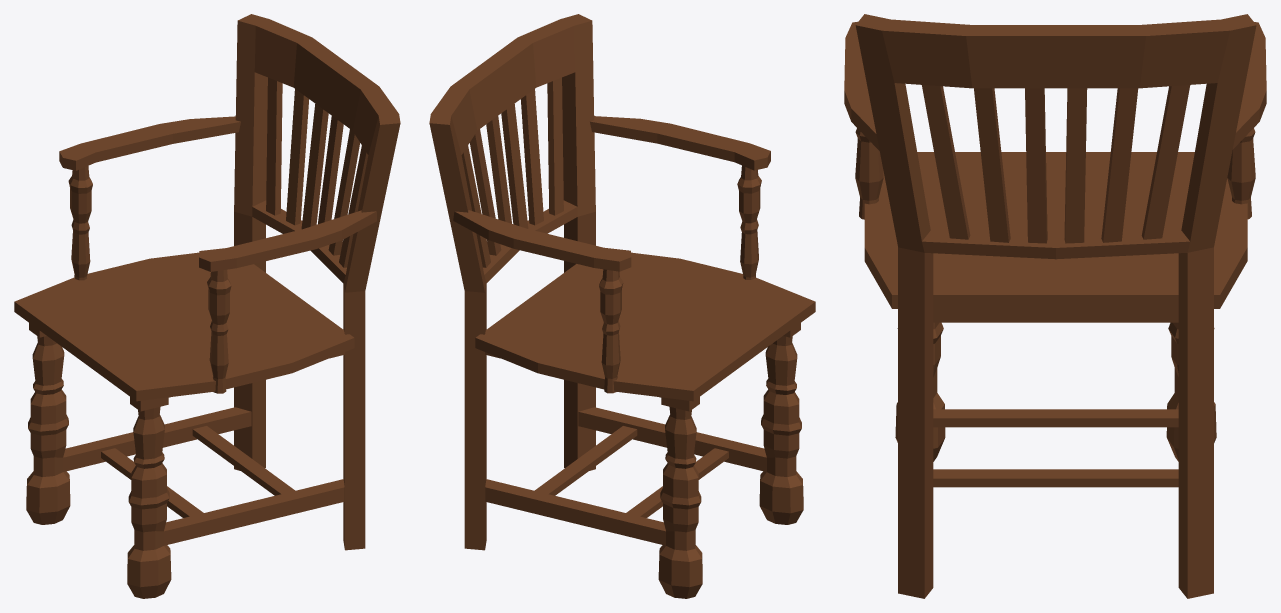
File: chair.fbx
The picture shows the model from 3 angles, left to right: view 1: azimuth 30°, elevation 25°; view 2: azimuth 150°, elevation 25°; view 3: azimuth 270°, elevation 25°; orthographic projection. The views are drawn at different scales.
Visible parts, largest first — view 1: chair; view 2: chair; view 3: chair.
Boxes of the visible parts, box(x1,y1,x2,y2) form: chair: box(14, 14, 400, 598); chair: box(429, 14, 815, 598); chair: box(844, 14, 1266, 598).
Bounding box in the file's own units: 62.05 × 95.11 × 62.43.
